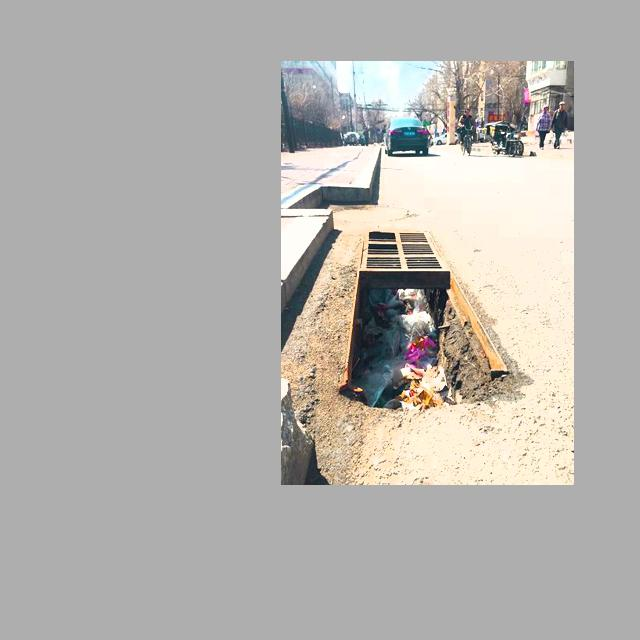lose: (323, 272, 512, 409)
